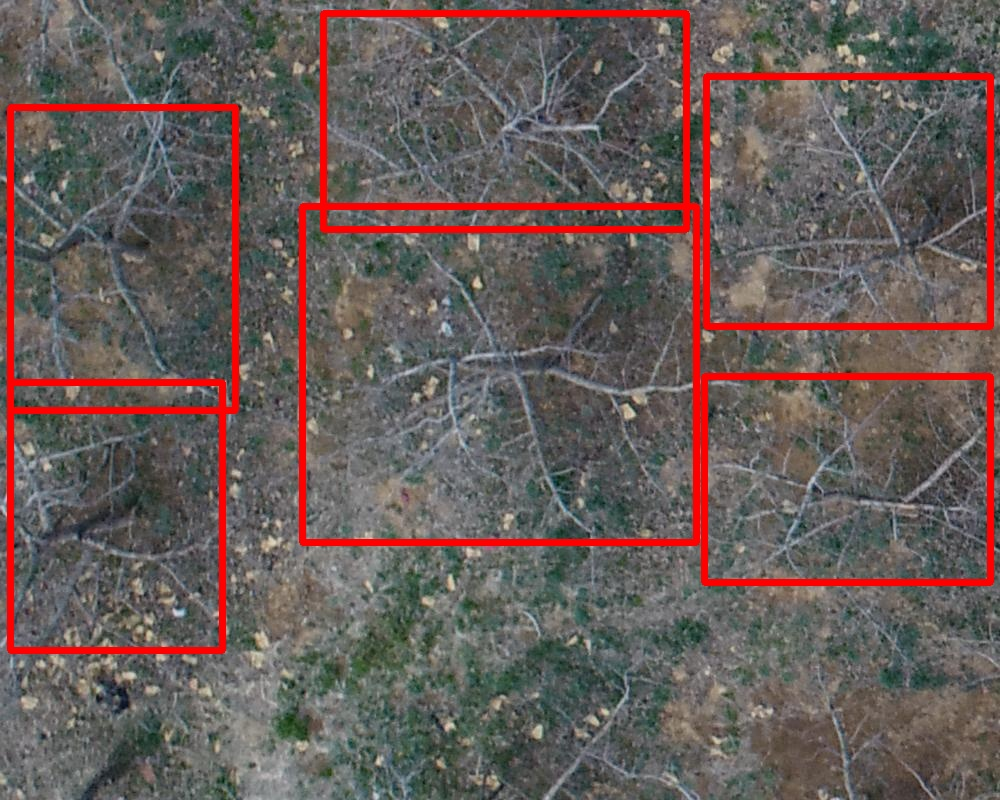apple: (302, 206, 696, 542), (323, 13, 686, 229), (706, 76, 990, 326), (10, 107, 235, 410), (704, 376, 990, 582), (10, 382, 222, 650)
